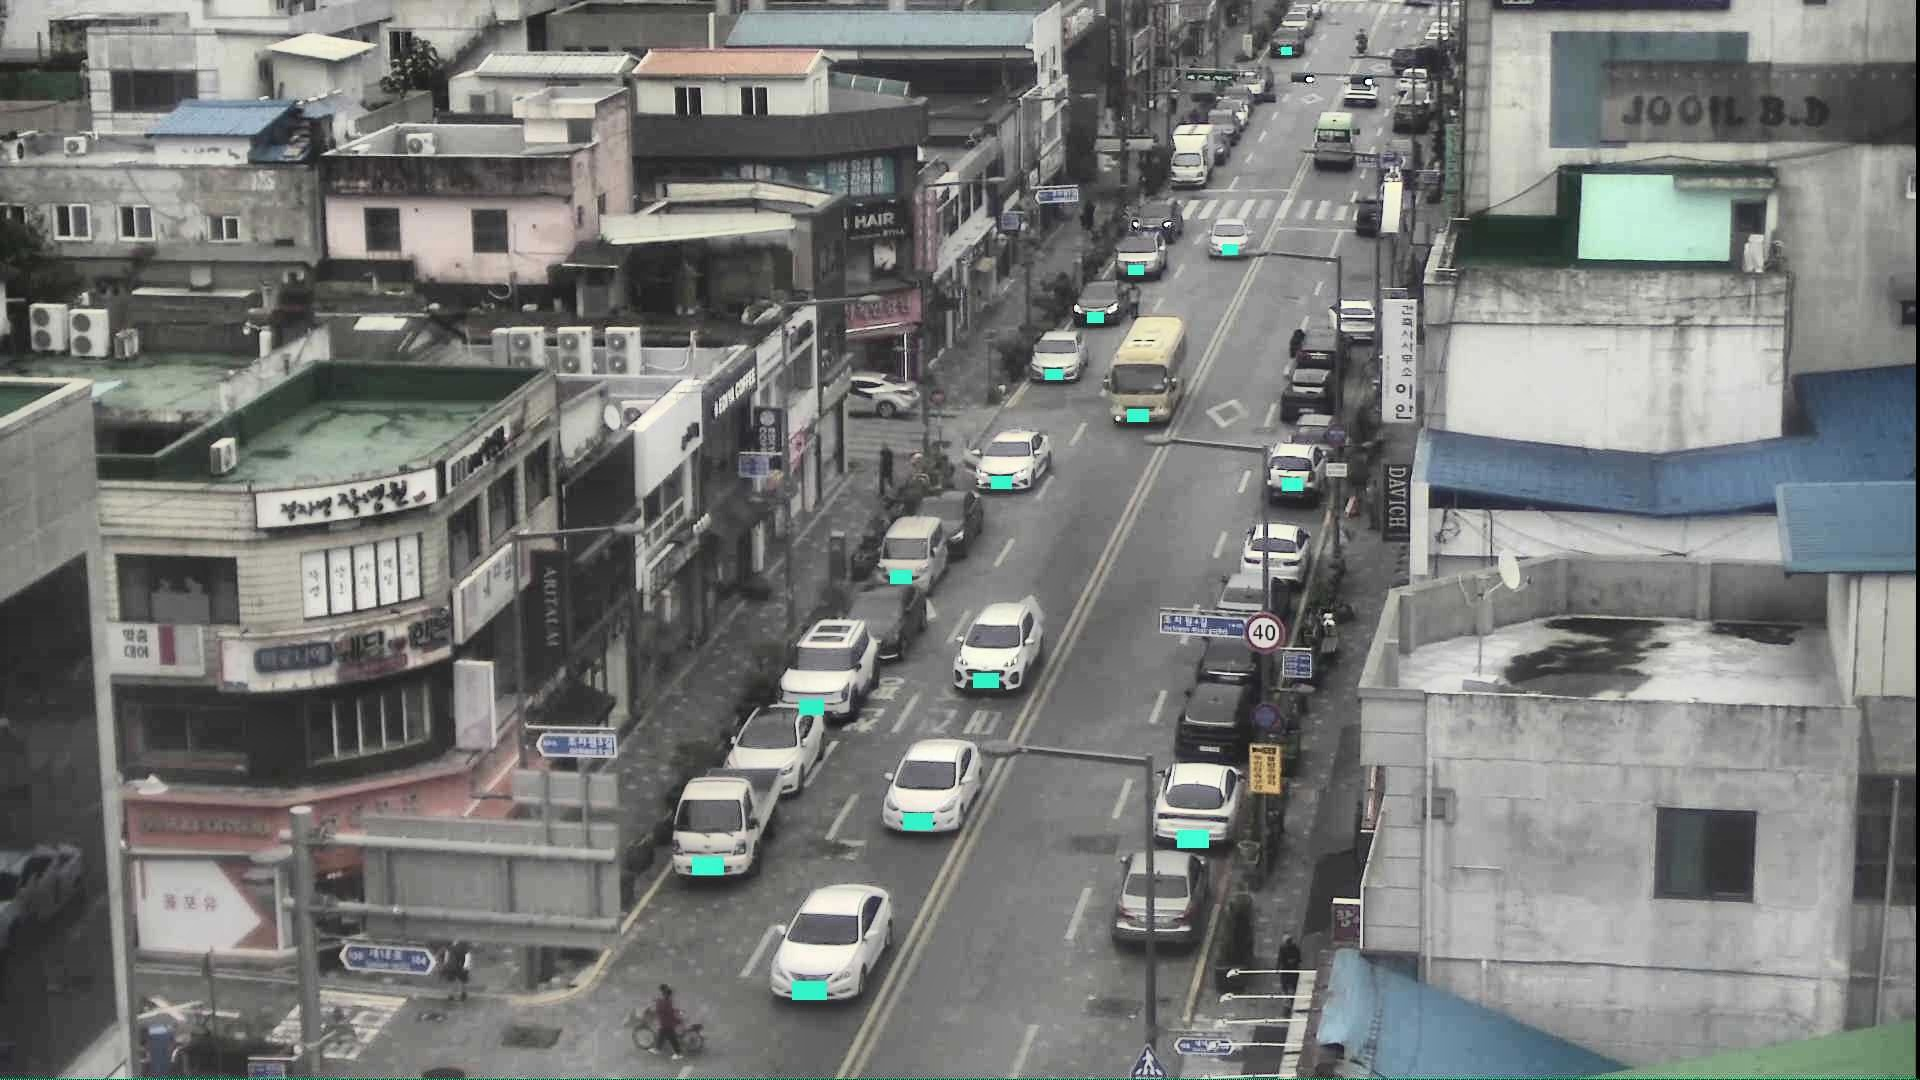jaywalk: (645, 982, 682, 1059), (1282, 328, 1303, 382), (1125, 281, 1141, 320)
sidewalk: (438, 930, 469, 1007), (1271, 931, 1304, 997), (1360, 480, 1383, 538), (874, 442, 897, 493), (1083, 200, 1096, 233)
